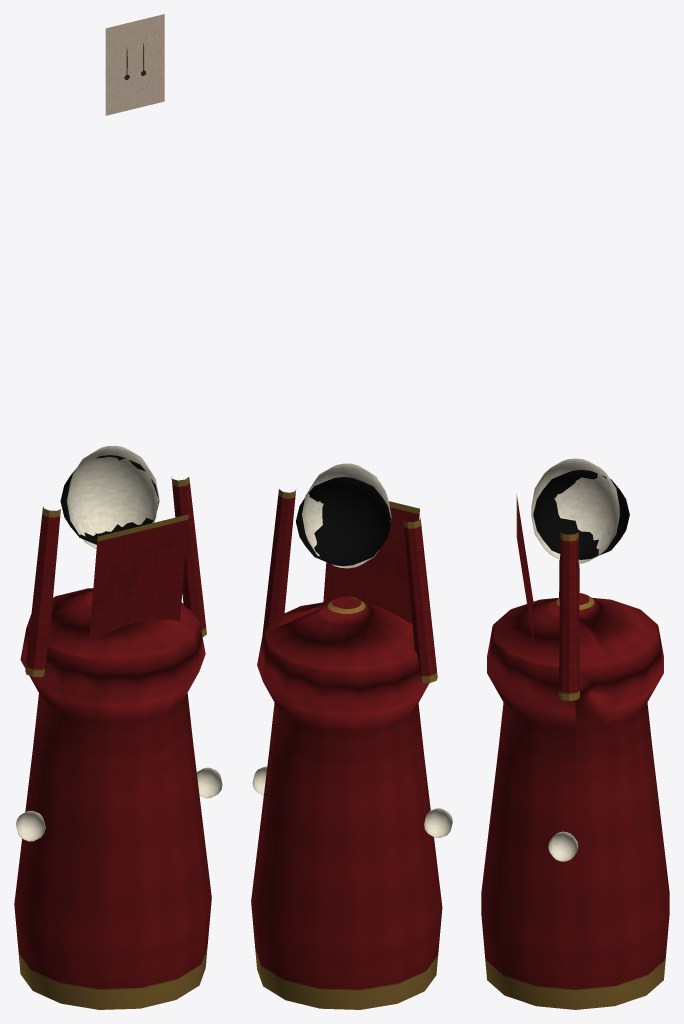
The model's file is bride_ghost.glb.
3 renders of one model, left to right at view 1: azimuth 30°, elevation 25°; view 2: azimuth 150°, elevation 25°; view 3: azimuth 270°, elevation 25°, orthographic. The views are drawn at different scales.
Parts seen in each view (by area): view 1: Body, Veil, Head, Face, Arm-1, Arm1, Hair, Hand-1, Hand1; view 2: Body, Hair, Veil, Arm-1, Arm1, Head, Hand-1; view 3: Body, Head, Arm1, Hair, Veil, Hand1.
Boxes of the visible parts, box(x1,y1,x2,y2) form: Body: box(14, 588, 211, 1009); Veil: box(89, 514, 188, 642); Head: box(66, 445, 159, 549); Face: box(105, 14, 164, 115); Arm-1: box(25, 506, 60, 677); Arm1: box(171, 476, 206, 636); Hair: box(60, 455, 159, 544); Hand-1: box(16, 811, 45, 841); Hand1: box(196, 767, 222, 798); Body: box(251, 596, 442, 1009); Hair: box(296, 477, 391, 566); Veil: box(323, 501, 419, 623); Arm-1: box(403, 517, 437, 683); Arm1: box(262, 489, 295, 634); Head: box(302, 463, 391, 568); Hand-1: box(424, 808, 452, 837); Body: box(481, 593, 669, 1009); Head: box(531, 458, 619, 563); Arm1: box(559, 532, 579, 700); Hair: box(533, 469, 629, 559); Veil: box(516, 494, 533, 644); Hand1: box(548, 831, 578, 861).
Bounding box in the file's own units: 0.76 × 3.44 × 0.624.
Materials: 5 (5 with a texture image).
